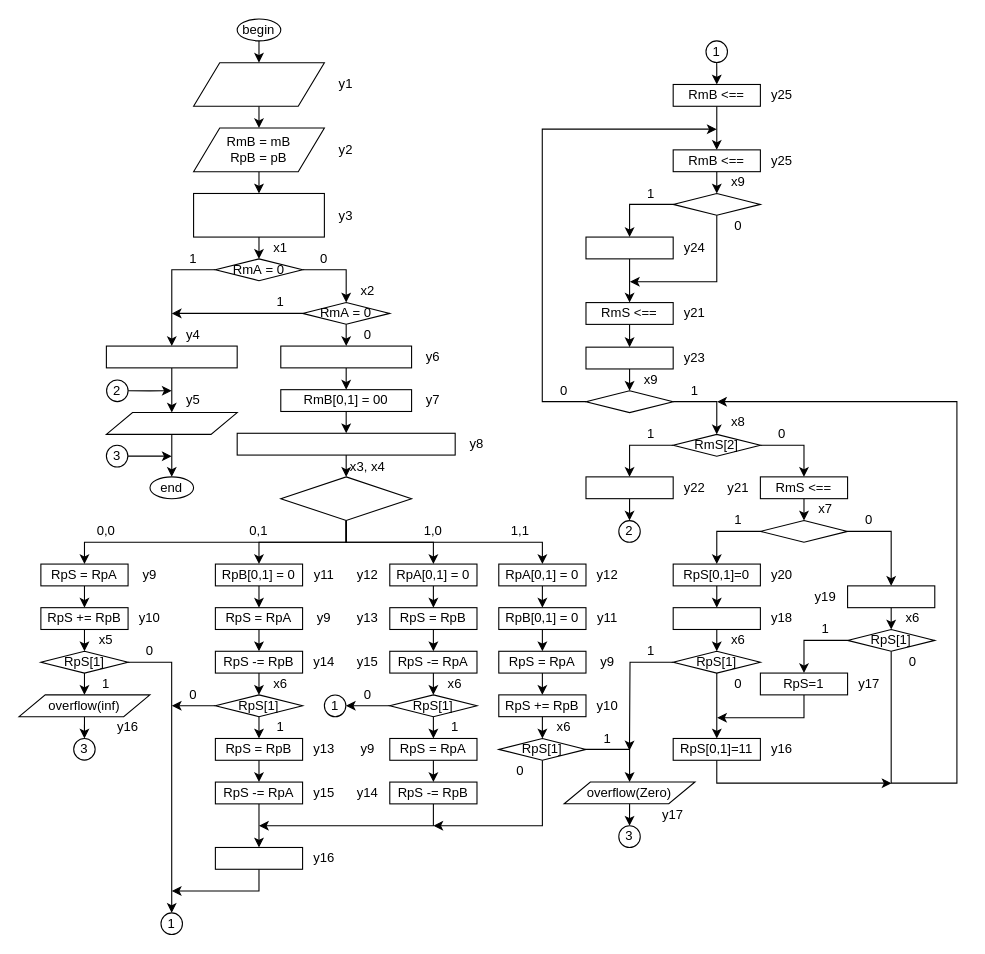
The diagram is 985 pixels wide and 954 high, and some of its shapes have lost their labels. Each missing label, with the box of its shape:
ct = 0: (585, 390, 673, 413)
ct = 13, RmS = 0, RpS = 0, Zn = 0: (192, 192, 324, 237)
ct--: (585, 346, 673, 369)
RmA = mA RpA = pA: (192, 62, 324, 106)
RmA[0,1] = 00: (280, 345, 412, 368)
RmB[0]: (672, 192, 760, 215)
RmS += RpA: (585, 236, 673, 259)
RmS, RpS: (105, 411, 237, 434)
RmS, RpS = 0: (105, 345, 237, 368)
RmS[0,1]= Zn: (585, 476, 673, 499)
RmZn = RmA[0,1] xor RmB[0,1]: (236, 432, 455, 455)
RpA[0],RpB[0]: (280, 476, 412, 520)
RpS++: (672, 607, 760, 629)
RpS--: (846, 585, 935, 608)
RpS[0,1] = 11: (214, 846, 303, 869)
RpS[0]: (759, 519, 848, 542)
